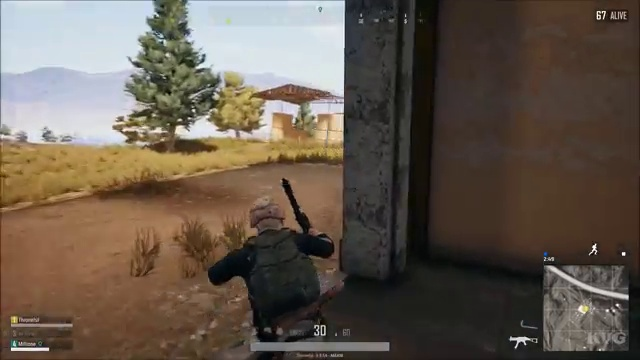Player: (183, 173, 339, 331)
